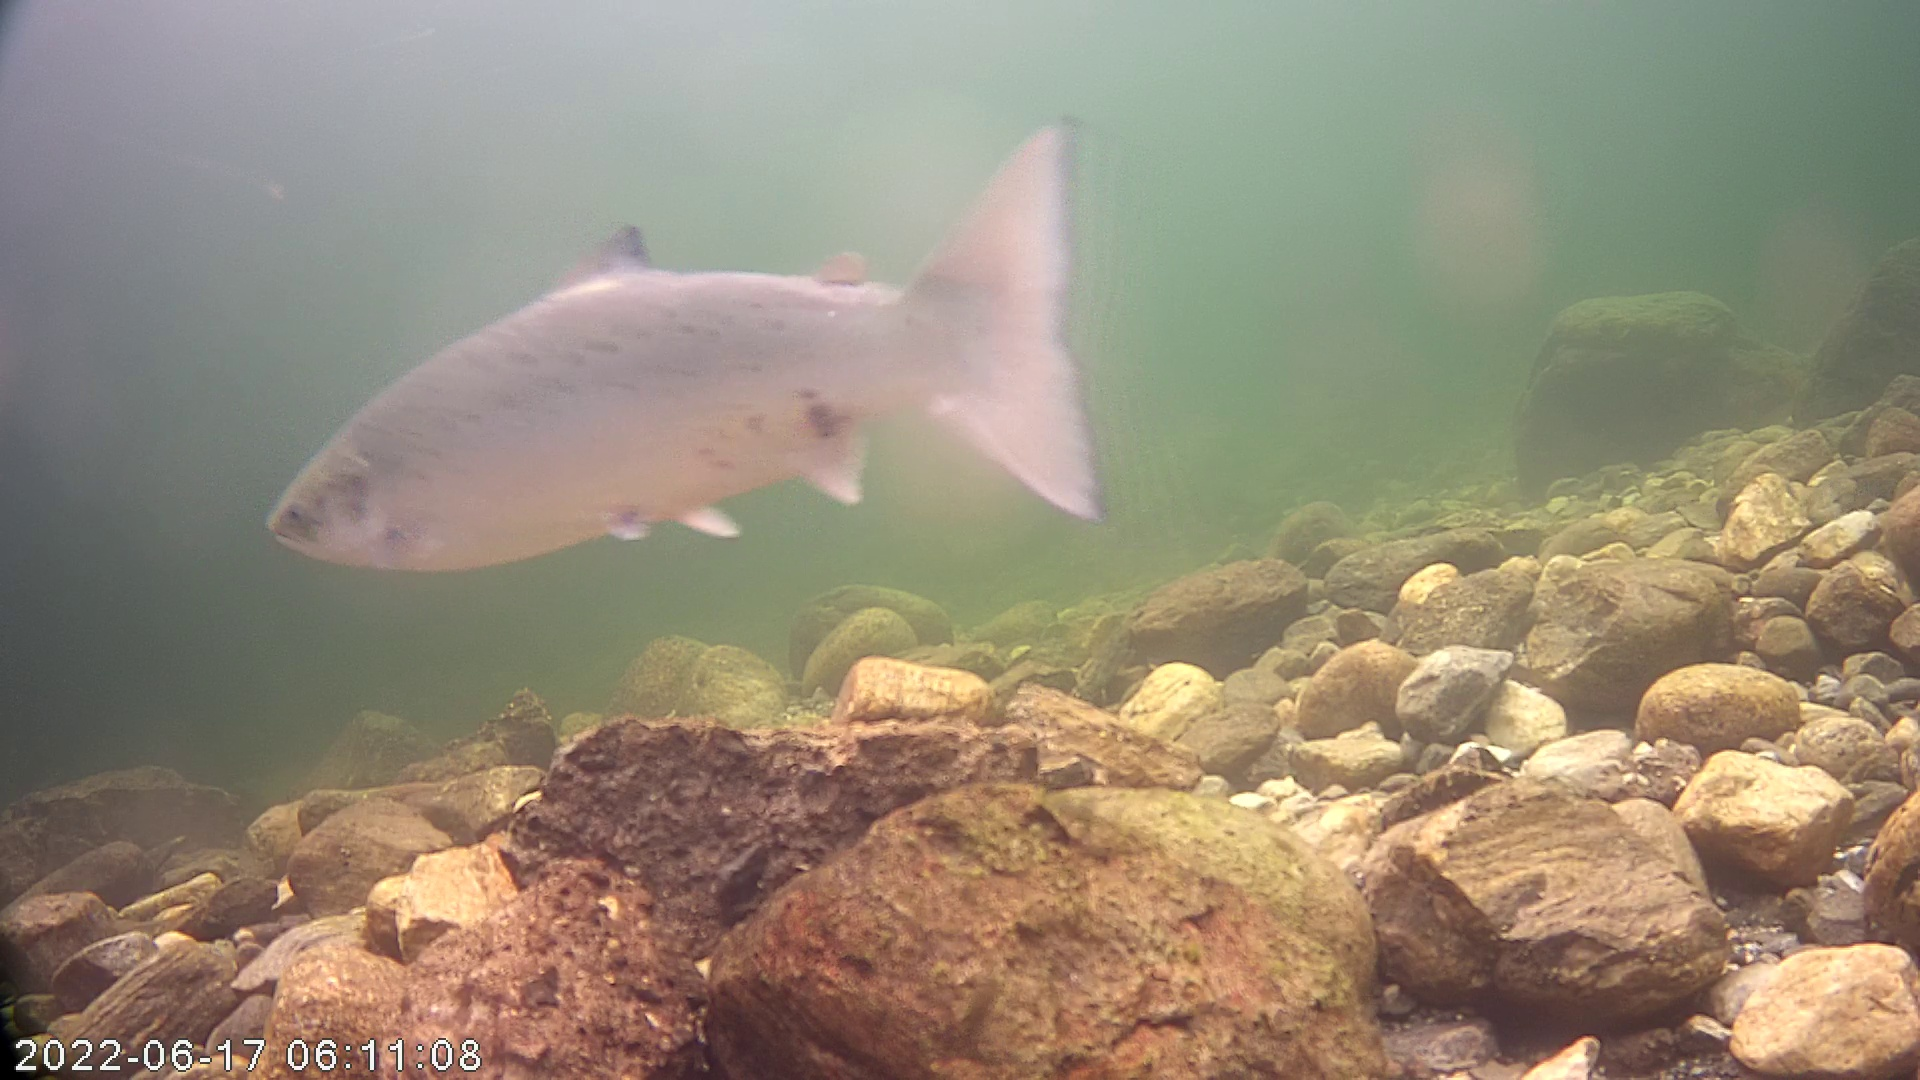salmon: (264, 113, 1110, 575)
